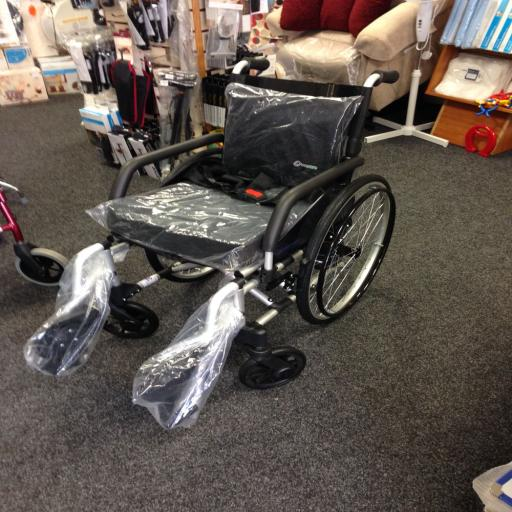road: (26, 60, 398, 428)
